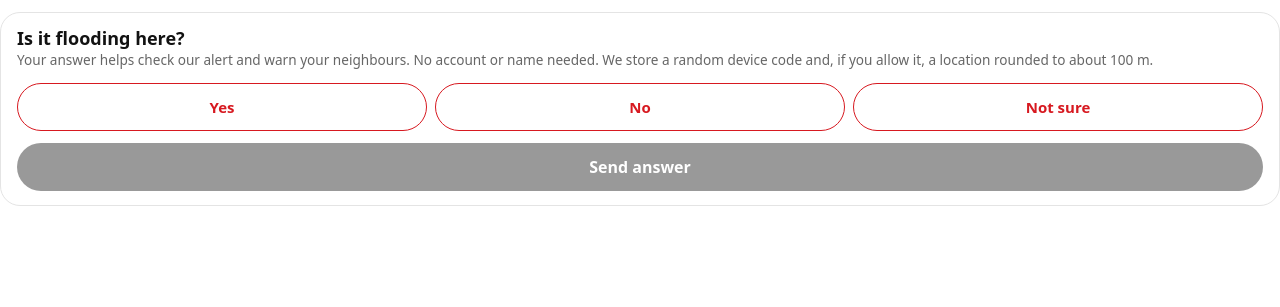
VerifySheet (verify) › a server error shows a retry message and keeps the form
This screenshot has width=1280, height=307.
Click the button "No".
click(640, 107)  # box [435, 83, 845, 131]
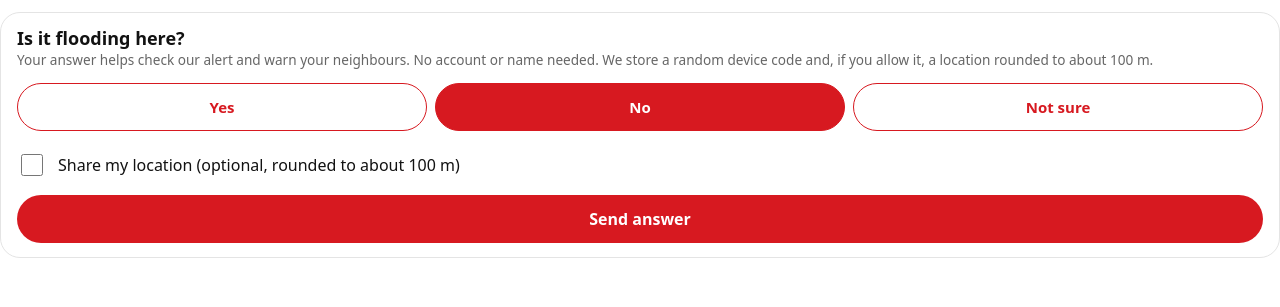
Click the button "Send answer".
click(640, 219)  # box [17, 195, 1263, 243]
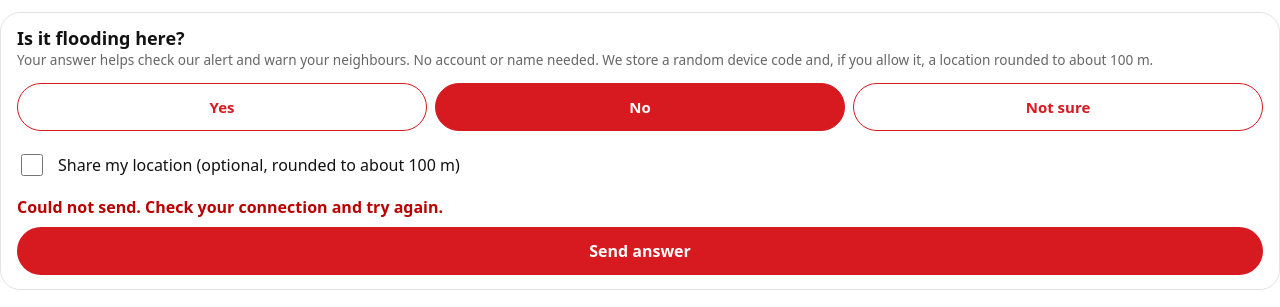
Check: the button "Send answer" is enabled, box [17, 227, 1263, 275]
Check: the message shows "Could not send", box [17, 196, 443, 218]
